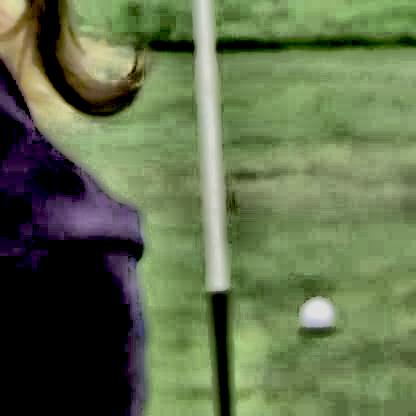golfball: (299, 301, 329, 329)
